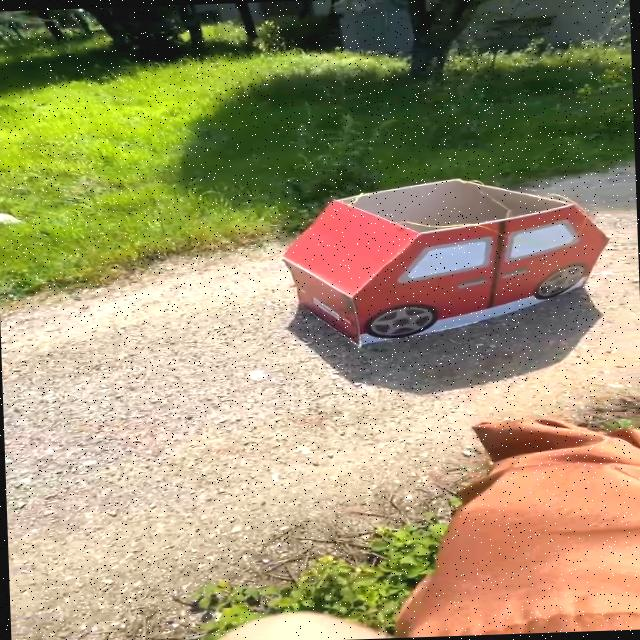red_car: (267, 160, 622, 361)
